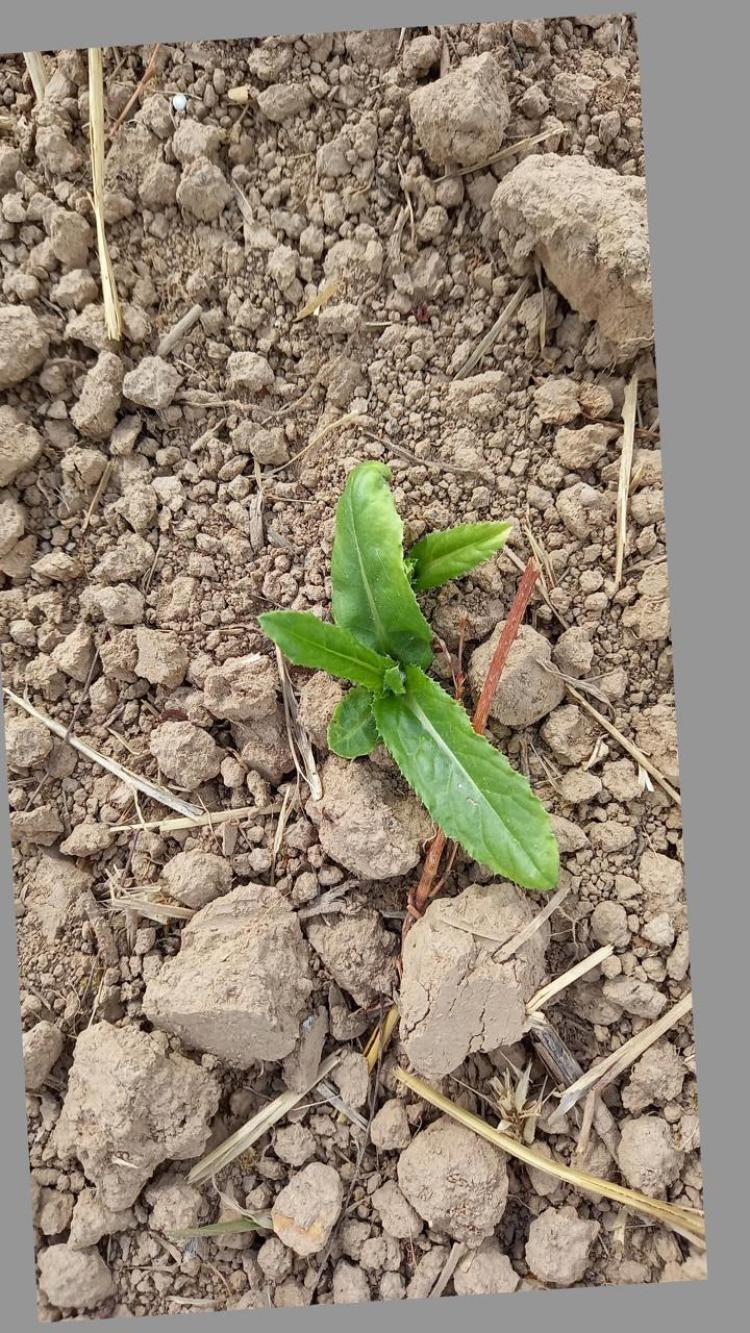bodyak: (269, 461, 573, 894)
